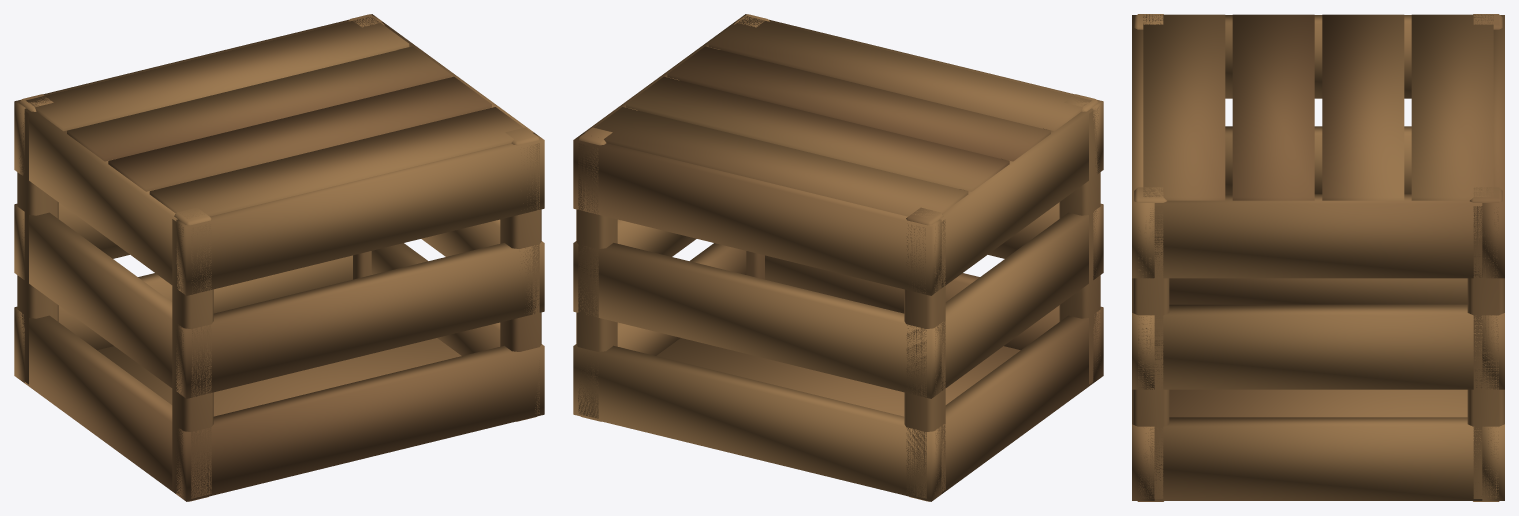
The model's file is crates_1.glb.
3 renders of one model, left to right at view 1: azimuth 30°, elevation 25°; view 2: azimuth 150°, elevation 25°; view 3: azimuth 270°, elevation 25°, orthographic. The views are drawn at different scales.
Parts seen in each view (by area): view 1: crates_1; view 2: crates_1; view 3: crates_1.
Boxes of the visible parts, <box> form: crates_1: <box>14,14,544,501</box>; crates_1: <box>573,14,1103,501</box>; crates_1: <box>1132,14,1504,501</box>.
Size of the model in its own units: 0.6 by 0.45 by 0.5.
